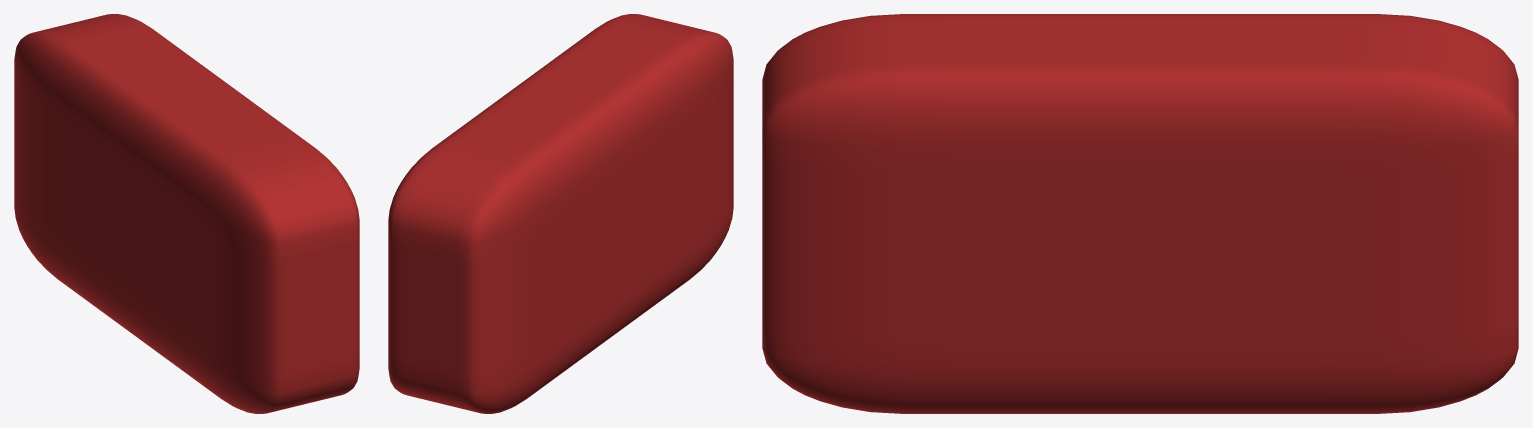
Rendered from Brick.fbx.
3 renders of one model, left to right at view 1: azimuth 30°, elevation 25°; view 2: azimuth 150°, elevation 25°; view 3: azimuth 270°, elevation 25°, orthographic. The views are drawn at different scales.
Visible parts, largest first — view 1: Cube.001; view 2: Cube.001; view 3: Cube.001.
Boxes of the visible parts, x1,y1,x2,y2 form: Cube.001: (14,14,359,413); Cube.001: (388,14,733,413); Cube.001: (762,14,1518,413).
Size of the model in its own units: 286 by 543 by 1085.
